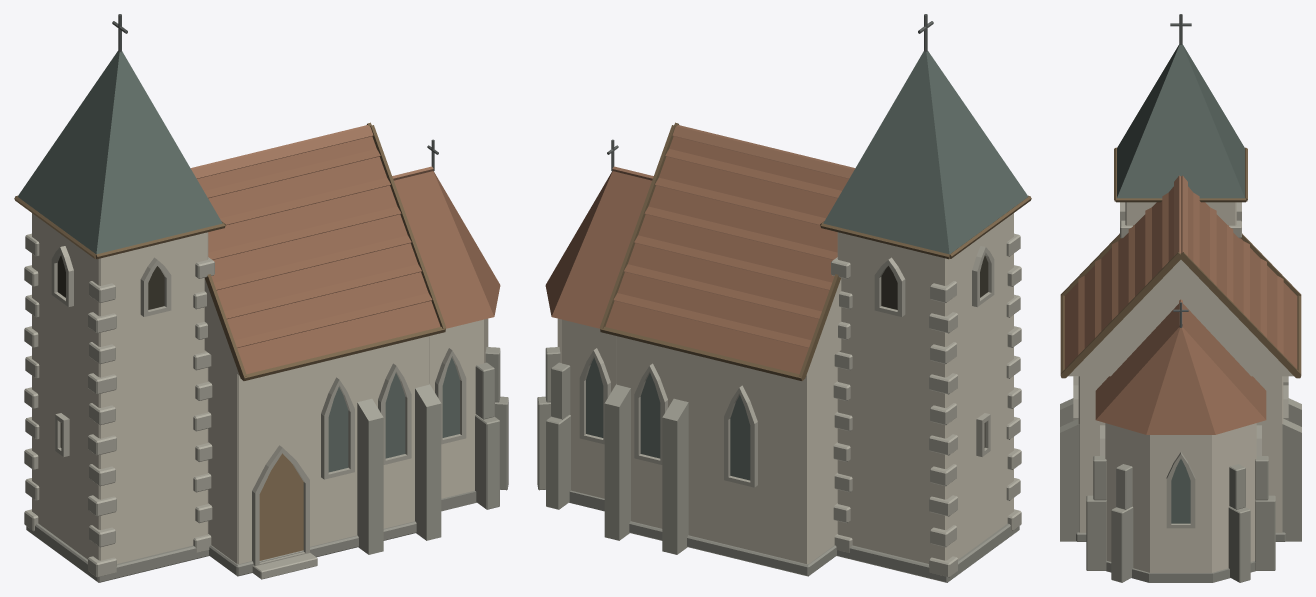
Rendered from church.glb.
3 views of the same model, side by side, from view 1: azimuth 30°, elevation 25°; view 2: azimuth 150°, elevation 25°; view 3: azimuth 270°, elevation 25° (orthographic). The views are drawn at different scales.
Parts seen in each view (by area): view 1: church_settlement_lime, church_fort_roof, church_slate, church_fort_stone_light, church_fort_masonry, church_oak_dark, church_fort_stone_dark, church_settlement_glass, church_oak, church_fort_roof_light, church_black; view 2: church_settlement_lime, church_fort_roof, church_slate, church_fort_stone_light, church_fort_masonry, church_fort_stone_dark, church_oak_dark, church_settlement_glass, church_fort_roof_light, church_black; view 3: church_fort_roof, church_settlement_lime, church_fort_masonry, church_slate, church_oak_dark, church_fort_stone_light, church_fort_stone_dark, church_fort_roof_light, church_settlement_glass, church_iron.
Boxes of the visible parts, box(x1,y1,x2,y2) form: church_settlement_lime: box(32, 213, 488, 563); church_fort_roof: box(197, 136, 500, 375); church_slate: box(17, 51, 222, 254); church_fort_stone_light: box(24, 233, 466, 579); church_fort_masonry: box(357, 347, 508, 554); church_oak_dark: box(14, 122, 446, 380); church_fort_stone_dark: box(26, 490, 476, 582); church_settlement_glass: box(328, 357, 459, 472); church_oak: box(259, 453, 303, 560); church_fort_roof_light: box(190, 125, 433, 180); church_black: box(57, 255, 164, 447); church_settlement_lime: box(557, 213, 1013, 563); church_fort_roof: box(545, 136, 848, 375); church_slate: box(823, 51, 1028, 254); church_fort_stone_light: box(579, 233, 1021, 577); church_fort_masonry: box(537, 347, 688, 554); church_fort_stone_dark: box(569, 490, 1019, 582); church_oak_dark: box(599, 122, 1031, 380); church_settlement_glass: box(586, 357, 750, 480); church_fort_roof_light: box(612, 125, 855, 180); church_black: box(881, 255, 988, 447); church_fort_roof: box(1064, 186, 1297, 434); church_settlement_lime: box(1078, 202, 1283, 572); church_fort_masonry: box(1060, 398, 1301, 582); church_slate: box(1117, 44, 1244, 198); church_oak_dark: box(1060, 147, 1301, 378); church_fort_stone_light: box(1073, 202, 1288, 528); church_fort_stone_dark: box(1076, 532, 1285, 582); church_fort_roof_light: box(1174, 175, 1187, 325); church_settlement_glass: box(1171, 459, 1190, 523); church_iron: box(1170, 14, 1191, 327).
Bounding box in the file's own units: 9.47 × 11.25 × 5.74.
